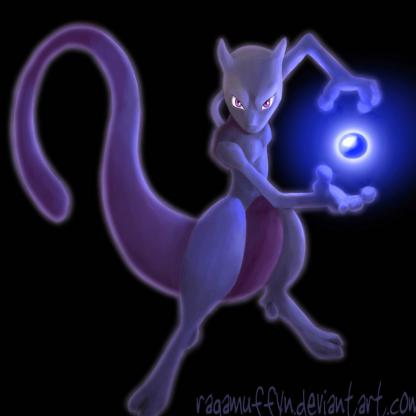Mewtwo: (13, 18, 416, 416)
